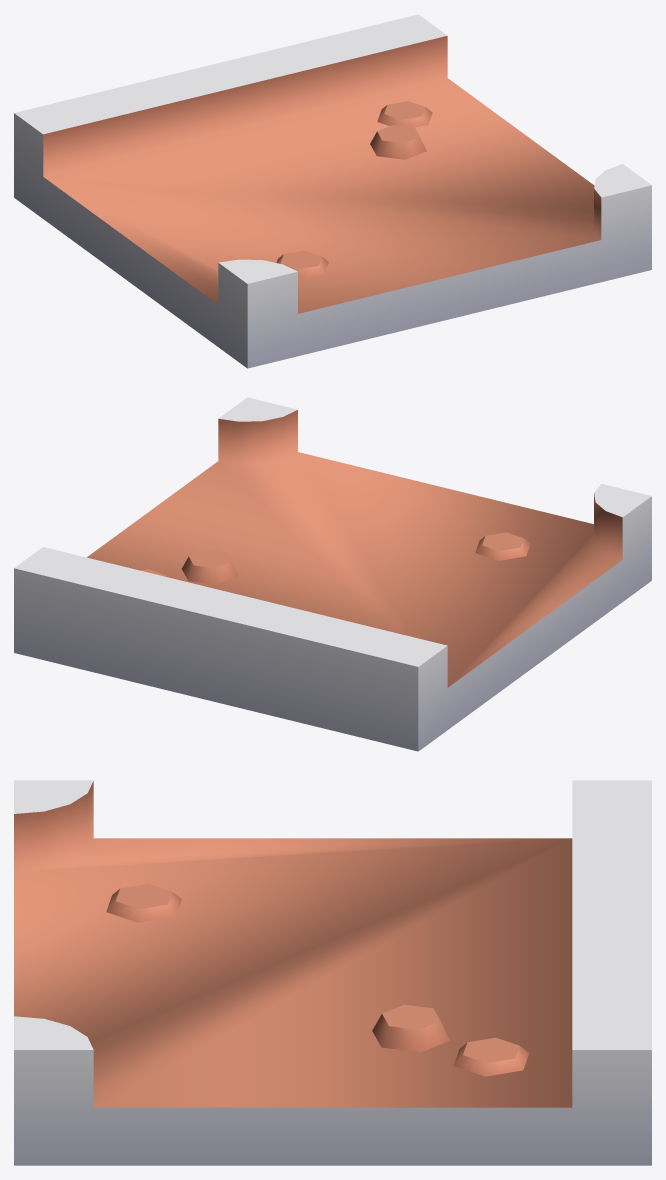
Rendered from snow-tile-split.fbx.
3 renders of one model, top to bottom at view 1: azimuth 30°, elevation 25°; view 2: azimuth 150°, elevation 25°; view 3: azimuth 270°, elevation 25°, orthographic. The views are drawn at different scales.
Parts seen in each view (by area): view 1: snow-tile-split; view 2: snow-tile-split; view 3: snow-tile-split.
Boxes of the visible parts, left/top/right/bottom form: snow-tile-split: left=14, top=14, right=651, bottom=368; snow-tile-split: left=14, top=397, right=651, bottom=751; snow-tile-split: left=14, top=780, right=651, bottom=1165.
Size of the model in its own units: 100 by 20 by 100.
